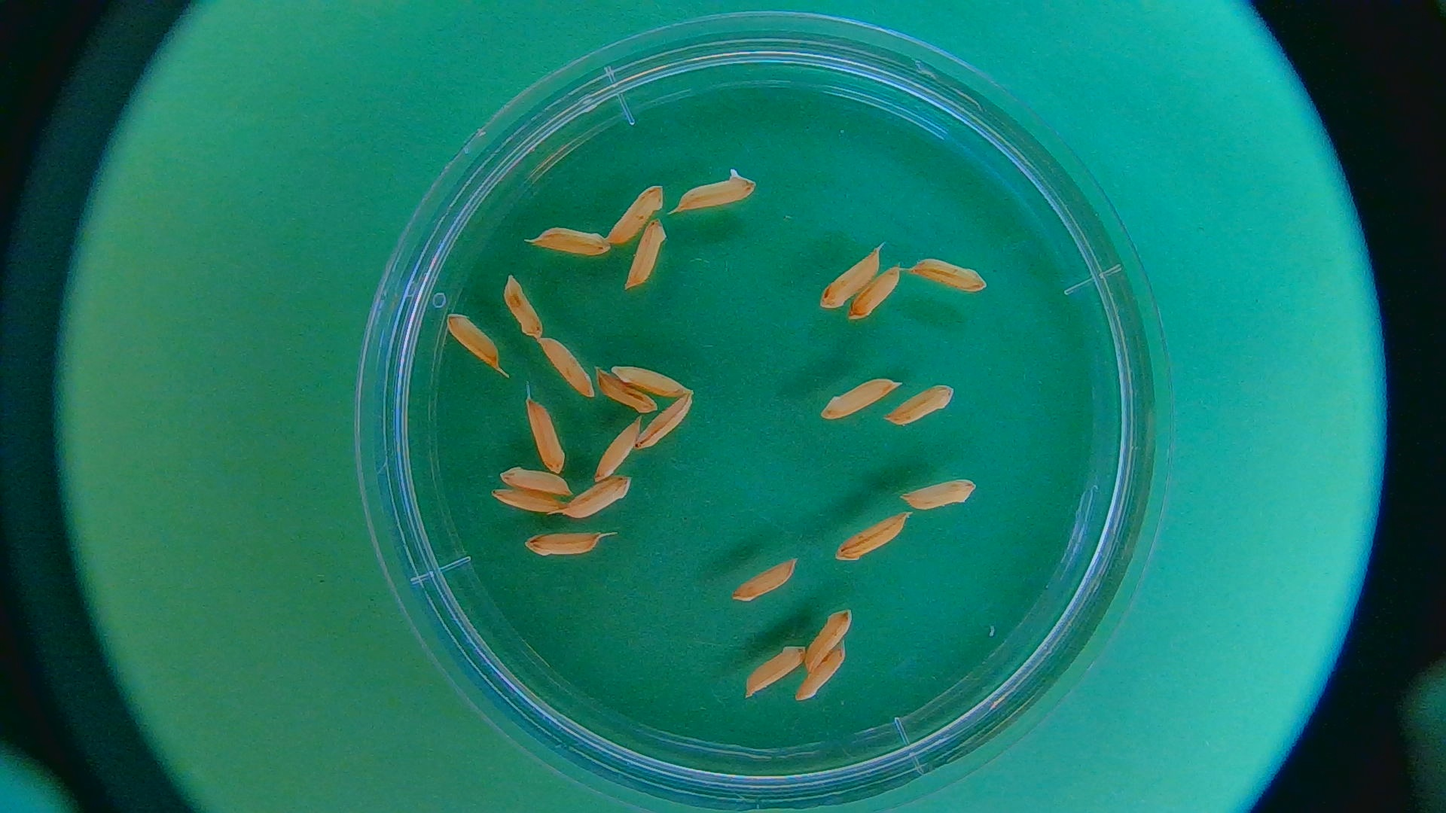no: (822, 247, 883, 312), (536, 335, 598, 395), (834, 510, 905, 561), (608, 184, 664, 247), (821, 376, 897, 421), (679, 168, 756, 212), (526, 395, 568, 474), (561, 474, 633, 519), (593, 416, 643, 480), (636, 396, 695, 449), (746, 645, 806, 696), (805, 607, 851, 673), (848, 263, 902, 319), (791, 645, 844, 702), (912, 255, 990, 293), (885, 383, 954, 425), (729, 558, 796, 601), (447, 315, 504, 364), (612, 365, 691, 400), (627, 220, 668, 287), (900, 477, 977, 512), (505, 277, 545, 335), (593, 370, 654, 408), (537, 227, 615, 255), (501, 467, 573, 496), (526, 532, 599, 559), (491, 489, 563, 513)
